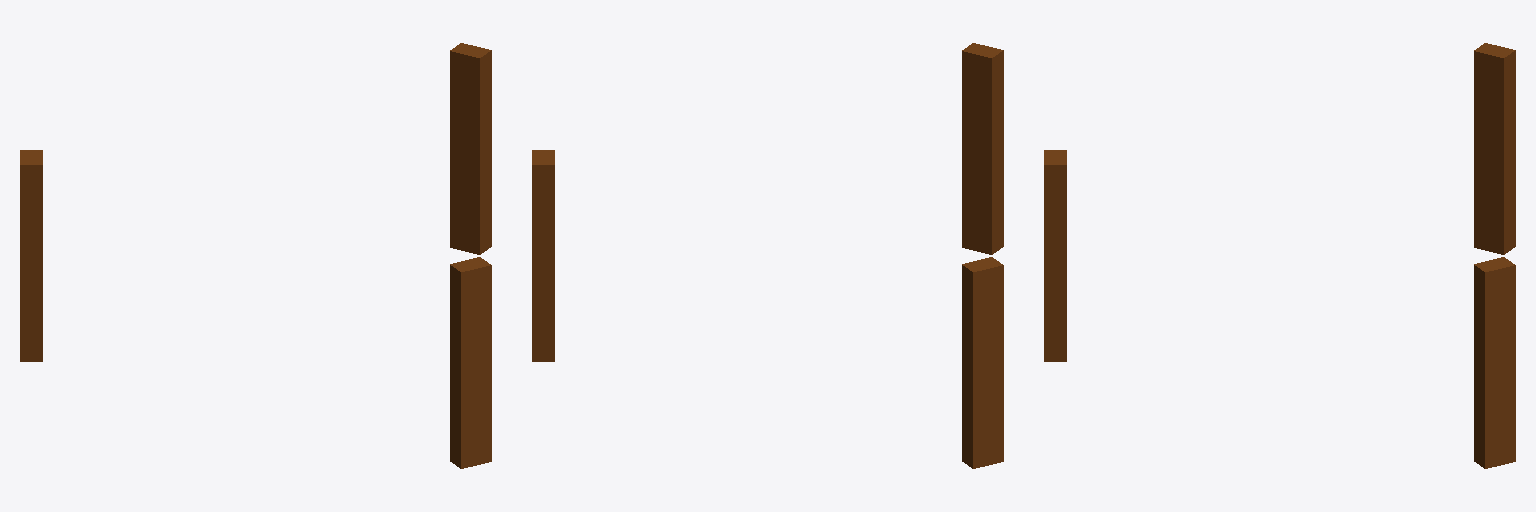
The robot description file, URDF, robot "Paucibot":
<?xml version="1.0"?>
<!-- created with Phobos 1.0.1 "Capricious Choutengan" -->
  <robot name="Paucibot">
    <material name="wood">
      <color rgba="0.5 0.3 0.13 1.0"/>
    </material>
    <material name="tire">
      <color rgba="0.1 0.1 0.1 1.0" />
    </material>
    <material name="white">
      <color rgba="1.0 1.0 1.0 0.9" />
    </material>
    <material name="brack" >
      <color rgba="0.8 0.4 0.11 1.0" />
    </material>

    <gazebo reference="BaseLink">
      <material>Gazebo/Orange</material>
    </gazebo>
    <gazebo reference="wheel1_link">
      <material>Gazebo/Black</material>
    </gazebo>
    <gazebo reference="wheel2_link">
      <material>Gazebo/Black</material>
    </gazebo>
    <gazebo reference="Holder1_link">
      <material>Gazebo/Black</material>
    </gazebo>
    <gazebo reference="Holder2_link">
      <material>Gazebo/Black</material>
    </gazebo>
    <gazebo reference="Motor1_link">
      <material>Gazebo/Black</material>
    </gazebo>
    <gazebo reference="Motor2_link">
      <material>Gazebo/Black</material>
    </gazebo>
    <gazebo reference="Pillar1_link">
      <material>Gazebo/Black</material>
    </gazebo>
    <gazebo reference="Pillar2_link">
      <material>Gazebo/Black</material>
    </gazebo>
    <gazebo reference="Pillar3_link">
      <material>Gazebo/Black</material>
    </gazebo>
    <gazebo reference="UpperLink">
      <material>Gazebo/Black</material>
    </gazebo>


    <link name="BaseLink">
      <inertial>
        <origin xyz="0 0 -0.00275" rpy="0 0 0"/>
        <mass value="0.07"/>
        <inertia ixx="0.0001" ixy="0" ixz="0" iyy="0.0001" iyz="0" izz="0.0002"/>
      </inertial>
      <visual name="lower_disc">
        <origin xyz="0 0 0" rpy="0 0 0"/>
        <geometry>
          <mesh filename="package://paucibot/meshes/stl/Circle.004.stl" scale="0.075 0.075 0.06329"/>
        </geometry>
        <material name="wood"/>
      </visual>
      <collision name="lower_disc">
        <origin xyz="0 0 -0.00275" rpy="0 0 0"/>
        <geometry>
          <cylinder radius="0.075" length="0.0055"/>
        </geometry>
      </collision>
    </link>

    <link name="Holder1_link">
      <inertial>
        <origin xyz="0 0 0" rpy="0 0 0"/>
        <mass value="0.03"/>
        <inertia ixx="0.001" ixy="0" ixz="0" iyy="0.001" iyz="0" izz="0.001"/>
      </inertial>
      <visual name="Holder2">
        <origin xyz="0 0 0" rpy="0 0 0"/>
        <geometry>
          <mesh filename="package://paucibot/meshes/stl/Cube.010.stl" scale="0.95238 0.7619 0.03429"/>
        </geometry>
        <material name="brack"/>
      </visual>
      <collision name="Holder2">
        <origin xyz="0.00045 0 0.01455" rpy="0 0 0"/>
        <geometry>
          <box size="0.0509 0.04 0.0309"/>
        </geometry>
      </collision>
    </link>

    <link name="Holder2_link">
      <inertial>
        <origin xyz="0 0 0" rpy="0 0 0"/>
        <mass value="0.03"/>
        <inertia ixx="0.001" ixy="0" ixz="0" iyy="0.001" iyz="0" izz="0.001"/>
      </inertial>
      <visual name="Holder1">
        <origin xyz="0 0 0" rpy="0 0 0"/>
        <geometry>
          <mesh filename="package://paucibot/meshes/stl/Cube.009.stl" scale="0.95238 0.7619 0.03429"/>
        </geometry>
        <material name="brack"/>
      </visual>
      <collision name="Holder1">
        <origin xyz="0.00045 0 0.01455" rpy="0 0 0"/>
        <geometry>
          <box size="0.0509 0.04 0.0309"/>
        </geometry>
      </collision>
    </link>

    <link name="Motor1_link">
      <inertial>
        <origin xyz="0 0 -0.02034" rpy="0 0 0"/>
        <mass value="0.225"/>
        <inertia ixx="7e-05" ixy="0" ixz="0" iyy="3e-05" iyz="0" izz="2e-05"/>
      </inertial>
      <visual name="Motor1">
        <origin xyz="0 0 0" rpy="0 0 0"/>
        <geometry>
          <mesh filename="package://paucibot/meshes/stl/Cylinder.stl" scale="1.0 1.0 1.0"/>
        </geometry>
        <material name="white" />
      </visual>
      <collision name="Motor1">
        <origin xyz="0 0 -0.02034" rpy="0 0 0"/>
        <geometry>
          <cylinder radius="0.018" length="0.06216"/>
        </geometry>
      </collision>
    </link>

    <link name="Motor2_link">
      <inertial>
        <origin xyz="0 0 -0.02027" rpy="0 0 0"/>
        <mass value="0.225"/>
        <inertia ixx="7e-05" ixy="0" ixz="0" iyy="3e-05" iyz="0" izz="2e-05"/>
      </inertial>
      <visual name="Motor2">
        <origin xyz="0 0 0" rpy="0 0 0"/>
        <geometry>
          <mesh filename="package://paucibot/meshes/stl/Cylinder.001.stl" scale="1.0 1.0 1.0"/>
        </geometry>
        <material name="white" />
      </visual>
      <collision name="Motor2">
        <origin xyz="0 0 -0.02027" rpy="0 0 0"/>
        <geometry>
          <cylinder radius="0.018" length="0.06262"/>
        </geometry>
      </collision>
    </link>

    <link name="Pillar1_link">
      <inertial>
        <origin xyz="0 0 0" rpy="0 0 0"/>
        <mass value="0.001"/>
        <inertia ixx="2e-05" ixy="0" ixz="0" iyy="2e-05" iyz="0" izz="2e-05"/>
      </inertial>
      <visual name="Pillar1">
        <origin xyz="0 0 0" rpy="0 0 0"/>
        <geometry>
          <box size="0.0085 0.0055 0.0525"/>
        </geometry>
        <material name="wood"/>
      </visual>
      <collision name="Pillar1">
        <origin xyz="0 0 0" rpy="0 0 0"/>
        <geometry>
          <box size="0.0085 0.0055 0.0525"/>
        </geometry>
      </collision>
    </link>

    <link name="Pillar2_link">
      <inertial>
        <origin xyz="0 0 0" rpy="0 0 0"/>
        <mass value="0.001"/>
        <inertia ixx="2e-05" ixy="0" ixz="0" iyy="2e-05" iyz="0" izz="2e-05"/>
      </inertial>
      <visual name="Pillar2">
        <origin xyz="0 0 0" rpy="0 0 0"/>
        <geometry>
          <box size="0.0085 0.0055 0.0525"/>
        </geometry>
        <material name="wood"/>
      </visual>
      <collision name="Pillar2">
        <origin xyz="0 0 0" rpy="0 0 0"/>
        <geometry>
          <box size="0.0085 0.0055 0.0525"/>
        </geometry>
      </collision>
    </link>

    <link name="Pillar3_link">
      <inertial>
        <origin xyz="0 0 0" rpy="0 0 0"/>
        <mass value="0.001"/>
        <inertia ixx="2e-05" ixy="0" ixz="0" iyy="2e-05" iyz="0" izz="2e-05"/>
      </inertial>
      <visual name="Pillar3">
        <origin xyz="0 0 0" rpy="0 0 0"/>
        <geometry>
          <box size="0.0085 0.0055 0.0525"/>
        </geometry>
        <material name="wood"/>
      </visual>
      <collision name="Pillar3">
        <origin xyz="0 0 0" rpy="0 0 0"/>
        <geometry>
          <box size="0.0085 0.0055 0.0525"/>
        </geometry>
      </collision>
    </link>

    <link name="UpperLink">
      <inertial>
        <origin xyz="0 0 -0.00275" rpy="0 0 0"/>
        <mass value="0.07"/>
        <inertia ixx="0.0001" ixy="0" ixz="0" iyy="0.0001" iyz="0" izz="0.0002"/>
      </inertial>
      <visual name="upper_disc">
        <origin xyz="0 0 0" rpy="0 0 0"/>
        <geometry>
          <mesh filename="package://paucibot/meshes/stl/Circle.003.stl" scale="0.075 0.075 0.06329"/>
        </geometry>
        <material name="wood"/>
      </visual>
      <collision name="upper_disc">
        <origin xyz="0 0 -0.00275" rpy="0 0 0"/>
        <geometry>
          <cylinder radius="0.075" length="0.0055"/>
        </geometry>
      </collision>
    </link>

    <link name="wheel1_link">
      <inertial>
        <origin xyz="0 0 0" rpy="0 0 0"/>
        <mass value="0.13"/>
        <inertia ixx="4e-05" ixy="0" ixz="0" iyy="7e-05" iyz="0" izz="0.00117"/>
      </inertial>
      <visual name="Wheel1">
        <origin xyz="0 0 0" rpy="0 0 0"/>
        <geometry>
          <mesh filename="package://paucibot/meshes/stl/Torus.stl" scale="0.81132 0.81132 1.89758"/>
        </geometry>
        <material name="tire" />
      </visual>
      <collision name="Wheel1">
        <origin xyz="0 0 0" rpy="0 0 0"/>
        <geometry>
          <cylinder radius="0.043" length="0.03798"/>
        </geometry>
      </collision>
    </link>

    <link name="wheel2_link">
      <inertial>
        <origin xyz="0 0 0" rpy="0 0 0"/>
        <mass value="0.13"/>
        <inertia ixx="4e-05" ixy="0" ixz="0" iyy="7e-05" iyz="0" izz="0.00117"/>
      </inertial>
      <visual name="Wheel2">
        <origin xyz="0 0 0" rpy="0 0 0"/>
        <geometry>
          <mesh filename="package://paucibot/meshes/stl/Torus.002.stl" scale="0.81132 0.81132 1.89758"/>
        </geometry>
        <material name="tire" />
      </visual>
      <collision name="Wheel2">
        <origin xyz="0 0 0" rpy="0 0 0"/>
        <geometry>
          <cylinder radius="0.043" length="0.03798"/>
        </geometry>
      </collision>
    </link>

    <joint name="Holder1_link" type="fixed">
      <origin xyz="0 0.075 -0.0323" rpy="1.5708 -1.5708 0"/>
      <parent link="BaseLink"/>
      <child link="Holder1_link"/>
    </joint>

    <joint name="Holder2_link" type="fixed">
      <origin xyz="0 -0.075 -0.0323" rpy="-1.5708 -1.5708 0"/>
      <parent link="BaseLink"/>
      <child link="Holder2_link"/>
    </joint>

    <joint name="Motor1_link" type="fixed">
      <origin xyz="0.002 0 0.0138" rpy="0 3.14159 0"/>
      <parent link="Holder1_link"/>
      <child link="Motor1_link"/>
    </joint>

    <joint name="Motor2_link" type="fixed">
      <origin xyz="0.002 0 0.0139" rpy="0 -3.14159 0"/>
      <parent link="Holder2_link"/>
      <child link="Motor2_link"/>
    </joint>

    <joint name="Pillar1_link" type="fixed">
      <origin xyz="-0.06127 0.03537 0.02625" rpy="0 0 -2.0944"/>
      <parent link="BaseLink"/>
      <child link="Pillar1_link"/>
    </joint>

    <joint name="Pillar2_link" type="fixed">
      <origin xyz="0 -0.07075 0.02625" rpy="0 0 0"/>
      <parent link="BaseLink"/>
      <child link="Pillar2_link"/>
    </joint>

    <joint name="Pillar3_link" type="fixed">
      <origin xyz="0.06127 0.03537 0.02625" rpy="0 0 2.0944"/>
      <parent link="BaseLink"/>
      <child link="Pillar3_link"/>
    </joint>

    <joint name="UpperLink" type="fixed">
      <origin xyz="0 0.07075 0.03175" rpy="0 0 0"/>
      <parent link="Pillar2_link"/>
      <child link="UpperLink"/>
    </joint>

    <joint name="wheel1_link" type="continuous">
      <origin xyz="-0.005 0 -0.0215" rpy="0 0 -1.5708"/>
      <parent link="Holder1_link"/>
      <child link="wheel1_link"/>
      <axis xyz="0 0 1.0"/>
      <limit effort="0.26" velocity="15.708"/>
    </joint>

    <joint name="wheel2_link" type="continuous">
      <origin xyz="0.007 0 0.0354" rpy="0 0 1.5708"/>
      <parent link="Motor2_link"/>
      <child link="wheel2_link"/>
      <axis xyz="0 0 1.0"/>
      <limit effort="0.26" velocity="15.708"/>
    </joint>

  </robot>

--- What the picture shows (computed from the rendered views, not written in the file) ---
3 views of the same robot in one strip: view 1: azimuth 30°, elevation 25°; view 2: azimuth 150°, elevation 25°; view 3: azimuth 270°, elevation 25° (orthographic).
Robot: Paucibot — 11 links, 10 joints (2 continuous, 8 fixed); root link BaseLink; default pose: all joints at 0.
Visible links, largest first — view 1: Pillar2_link, Pillar3_link, Pillar1_link; view 2: Pillar1_link, Pillar2_link, Pillar3_link; view 3: Pillar1_link, Pillar3_link, Pillar2_link.
Boxes of the visible links, x1=… form: Pillar2_link: x1=450, y1=257, x2=491, y2=468; Pillar3_link: x1=450, y1=43, x2=491, y2=254; Pillar1_link: x1=20, y1=150, x2=42, y2=361; Pillar1_link: x1=962, y1=257, x2=1003, y2=468; Pillar2_link: x1=962, y1=43, x2=1003, y2=254; Pillar3_link: x1=532, y1=150, x2=554, y2=361; Pillar1_link: x1=1474, y1=43, x2=1515, y2=254; Pillar3_link: x1=1474, y1=257, x2=1515, y2=468; Pillar2_link: x1=1044, y1=150, x2=1066, y2=361.
Size in the robot's own frame: 0.1316 by 0.1139 by 0.0525 metres.
0 mesh visuals loaded from 8 distinct referenced files (none loaded); not drawn: 8 (reference not matched to a file when rendering).